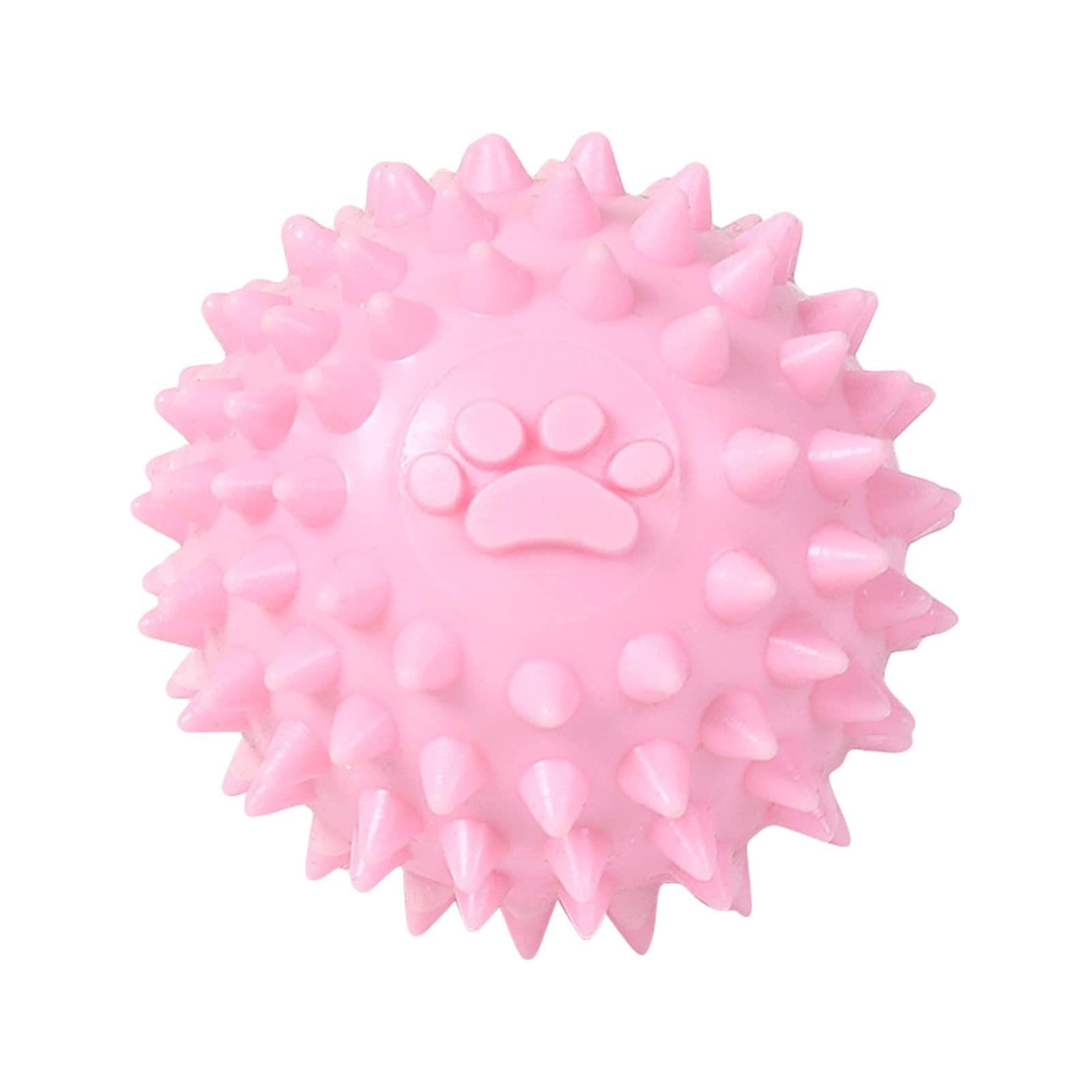non-dog: (128, 129, 967, 963)
